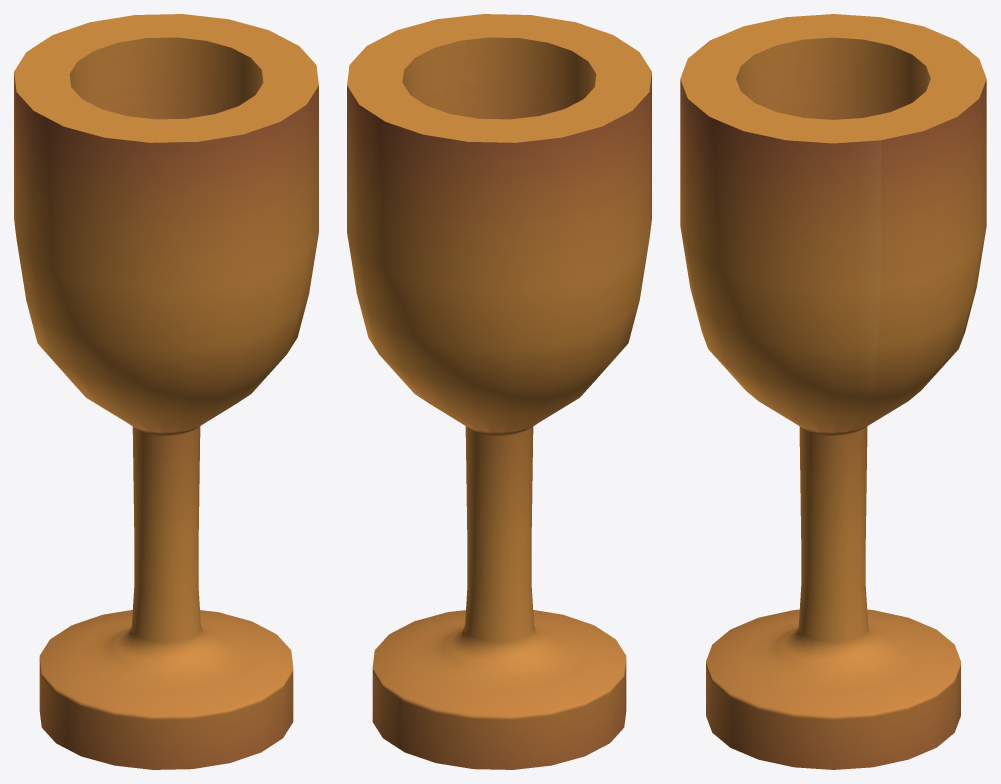
File: goblet.fbx
The picture shows the model from 3 angles, left to right: view 1: azimuth 30°, elevation 25°; view 2: azimuth 150°, elevation 25°; view 3: azimuth 270°, elevation 25°; orthographic projection.
Visible parts, largest first — view 1: goblet; view 2: goblet; view 3: goblet.
Part boxes in pixels (left/top/right/bottom): goblet: left=14, top=14, right=318, bottom=769; goblet: left=347, top=14, right=651, bottom=769; goblet: left=680, top=14, right=986, bottom=769.
Bounding box in the file's own units: 0.1583 × 0.3633 × 0.1583.
